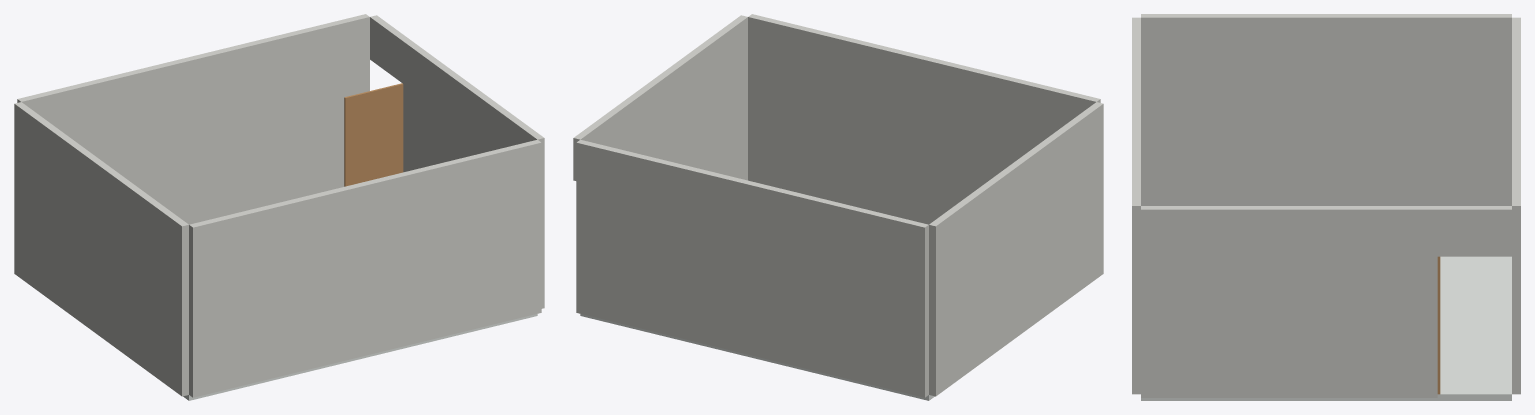
The picture shows the model from 3 angles, left to right: view 1: azimuth 30°, elevation 25°; view 2: azimuth 150°, elevation 25°; view 3: azimuth 270°, elevation 25°; orthographic projection. The views are drawn at different scales.
Visible parts, largest first — view 1: room:north:full, room:south:full, room:west:full, room:east:high, door:leaf, room:east:lintel, room:floor; view 2: room:south:full, room:north:full, room:west:full, room:east:high, room:floor, room:east:lintel; view 3: room:west:full, room:east:high, room:floor, room:east:lintel, room:south:full, room:north:full, door:leaf.
Boxes of the visible parts, x1,y1,x2,y2 form: room:north:full: (189,139,541,397); room:south:full: (17,14,369,224); room:west:full: (14,102,188,396); room:east:high: (403,40,544,308); door:leaf: (344,83,403,186); room:east:lintel: (370,15,409,83); room:floor: (183,314,537,400); room:south:full: (576,139,928,397); room:north:full: (748,14,1100,224); room:west:full: (929,102,1103,396); room:east:high: (607,15,747,180); room:floor: (580,314,934,400); room:east:lintel: (573,113,613,180); room:west:full: (1141,14,1511,205); room:east:high: (1141,206,1437,397); room:floor: (1141,256,1511,400); room:east:lintel: (1437,206,1511,256); room:south:full: (1512,17,1520,394); room:north:full: (1132,17,1140,394); door:leaf: (1437,256,1440,394).
Bounding box in the file's own units: 6.24 × 2.9 × 5.24.
